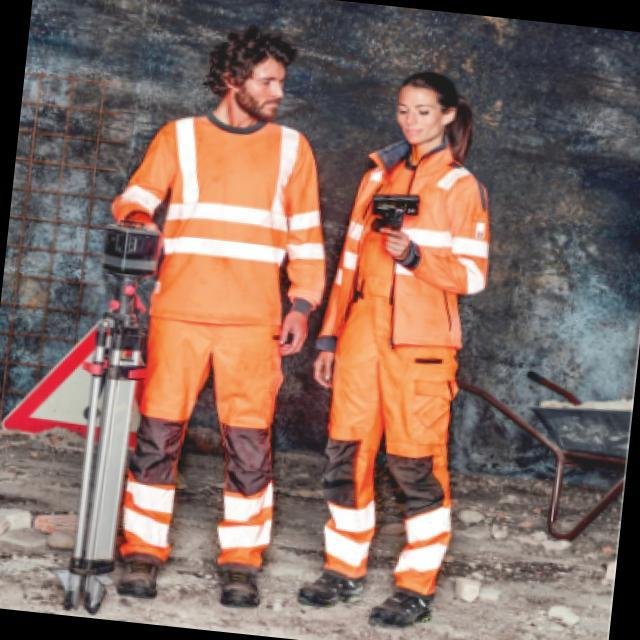shoes: (99, 536, 274, 615), (289, 561, 443, 634)
vest: (104, 100, 345, 331), (322, 123, 513, 360)
